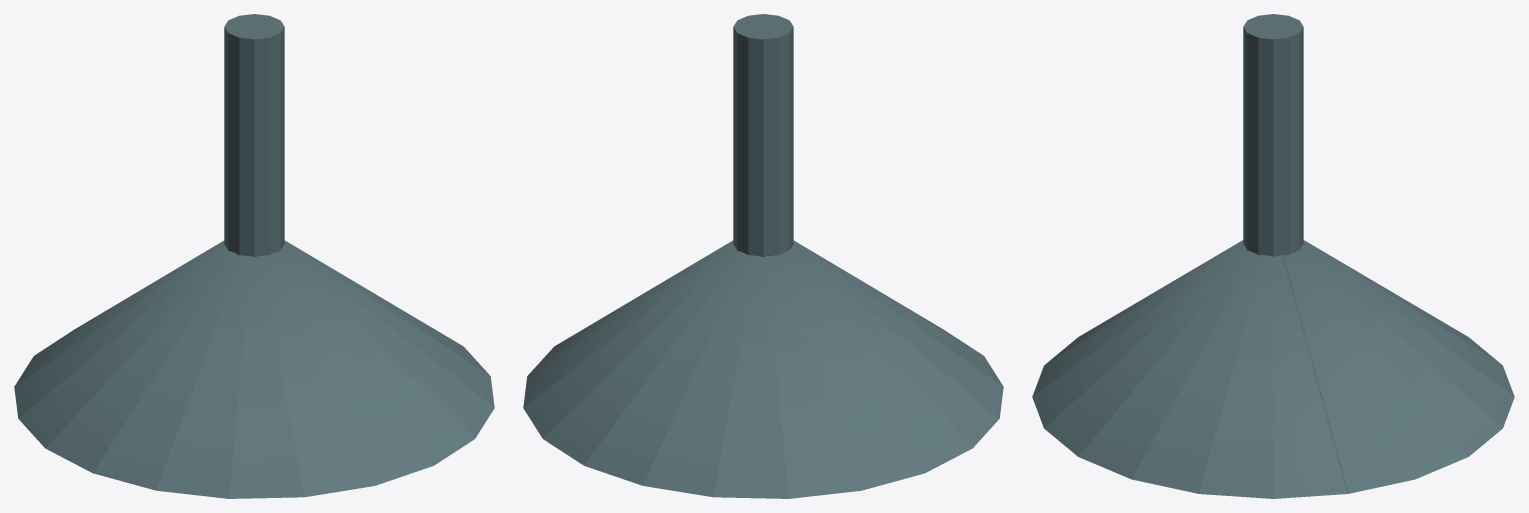
File: light.fbx
3 views of the same model, side by side, from view 1: azimuth 30°, elevation 25°; view 2: azimuth 150°, elevation 25°; view 3: azimuth 270°, elevation 25° (orthographic).
Parts seen in each view (by area): view 1: polySurface2; view 2: polySurface2; view 3: polySurface2.
Part boxes in pixels (x1=…): polySurface2: x1=14, y1=14, x2=494, y2=498; polySurface2: x1=523, y1=14, x2=1003, y2=498; polySurface2: x1=1032, y1=14, x2=1514, y2=498.
Bounding box in the file's own units: 1.6 × 1.35 × 1.6.
Materials: 1 (1 with a texture image).
